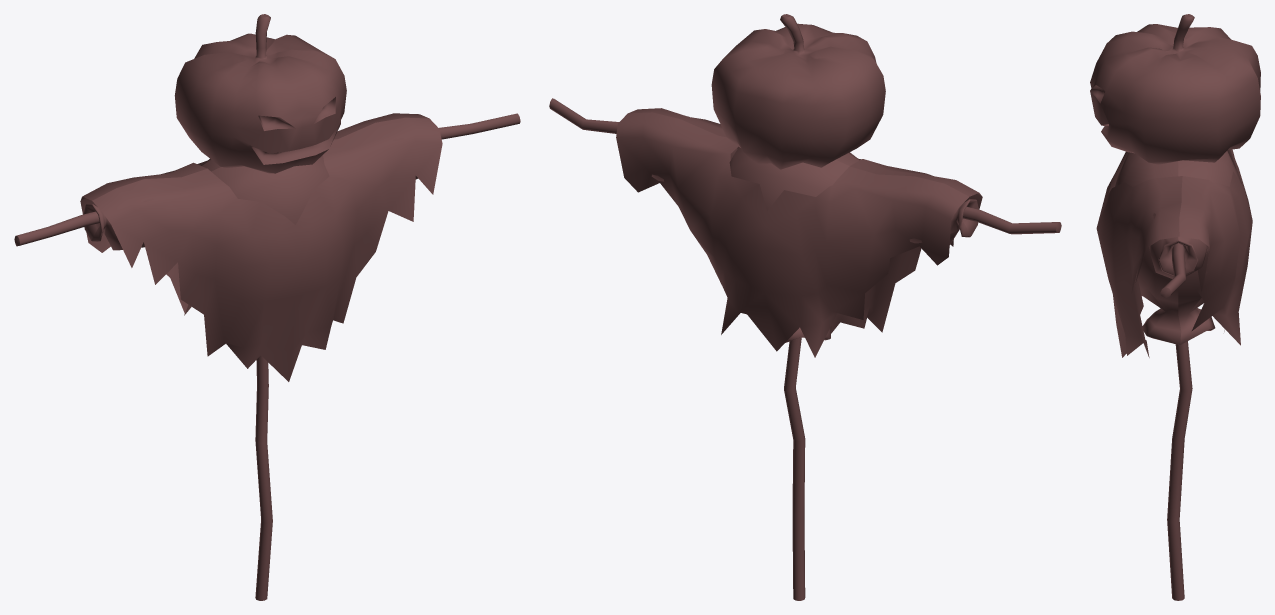
Rendered from Scarecrow_forUnityAnimation_fixed.fbx.
3 renders of one model, left to right at view 1: azimuth 30°, elevation 25°; view 2: azimuth 150°, elevation 25°; view 3: azimuth 270°, elevation 25°, orthographic.
Parts seen in each view (by area): view 1: Clothes, Head, Body, Arm01, Arm02; view 2: Clothes, Head, Body, Arm01, Arm02; view 3: Head, Clothes, Body, Arm02.
Part boxes in pixels (bbox=[...]): Clothes: bbox=[80, 113, 442, 381]; Head: bbox=[174, 14, 346, 173]; Body: bbox=[83, 138, 417, 600]; Arm01: bbox=[14, 211, 99, 246]; Arm02: bbox=[439, 113, 520, 139]; Clothes: bbox=[616, 108, 982, 357]; Head: bbox=[711, 14, 885, 169]; Body: bbox=[651, 116, 978, 600]; Arm01: bbox=[963, 207, 1061, 234]; Arm02: bbox=[549, 98, 618, 133]; Head: bbox=[1090, 14, 1260, 164]; Clothes: bbox=[1096, 149, 1252, 357]; Body: bbox=[1115, 151, 1240, 600]; Arm02: bbox=[1160, 243, 1185, 298].
Size of the model in its own units: 449 by 490 by 129.
